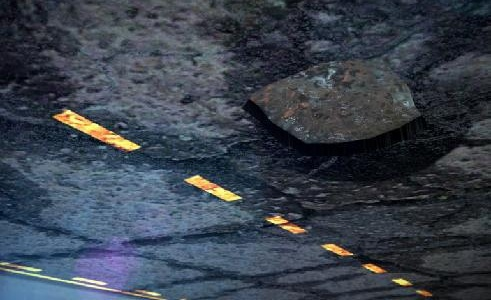pothole: (240, 54, 428, 157)
